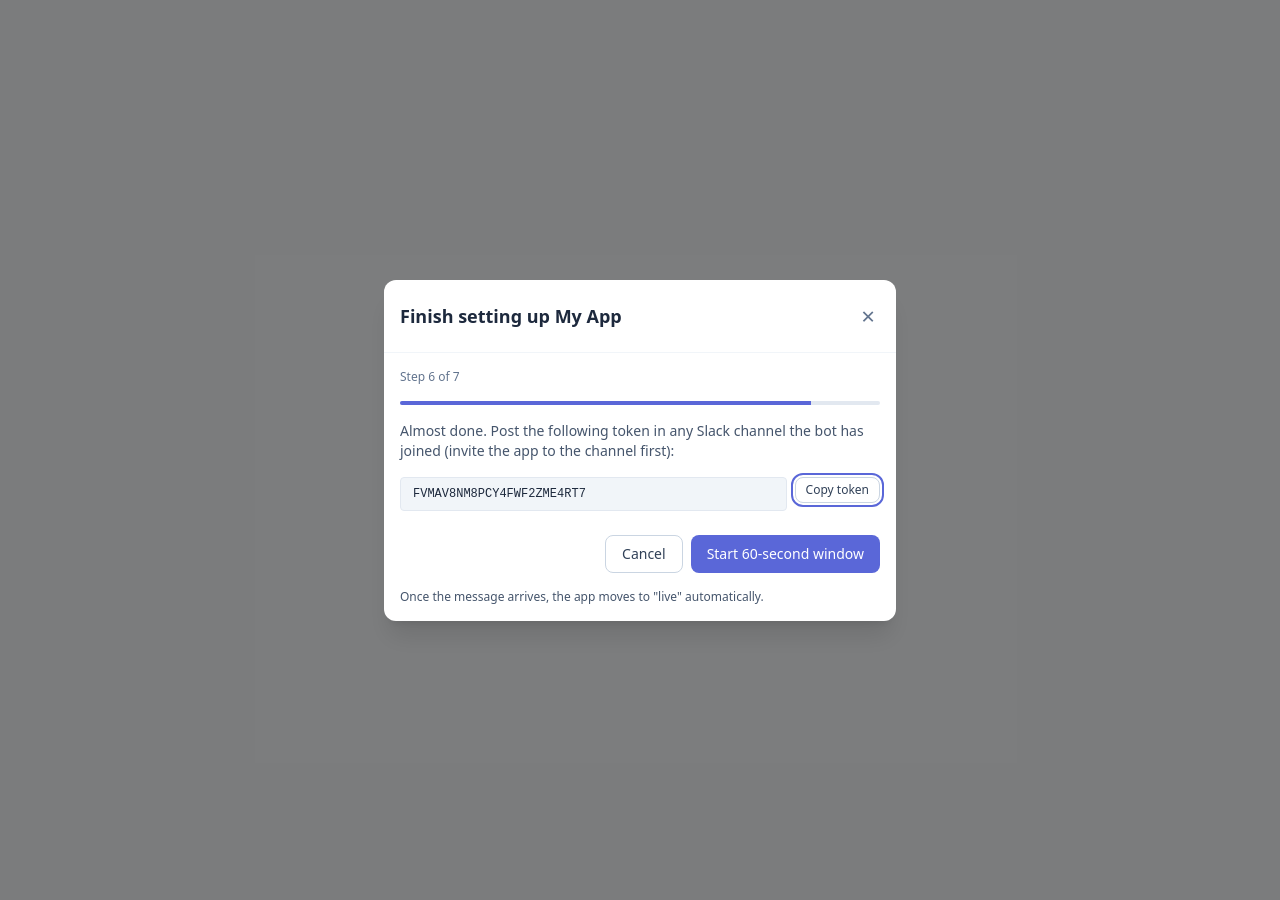
Test: SlackAppWizard - test message › shows a generated token and starts the 60s window
expect the text "Post the following token" is shown: met, box x1=400 y1=420 x2=864 y2=460
expect the text "Step 6 of 7" is shown: met, box x1=400 y1=368 x2=460 y2=384
Step 1. Click the button "Start 60-second window" → (785, 554), box x1=691 y1=534 x2=880 y2=572
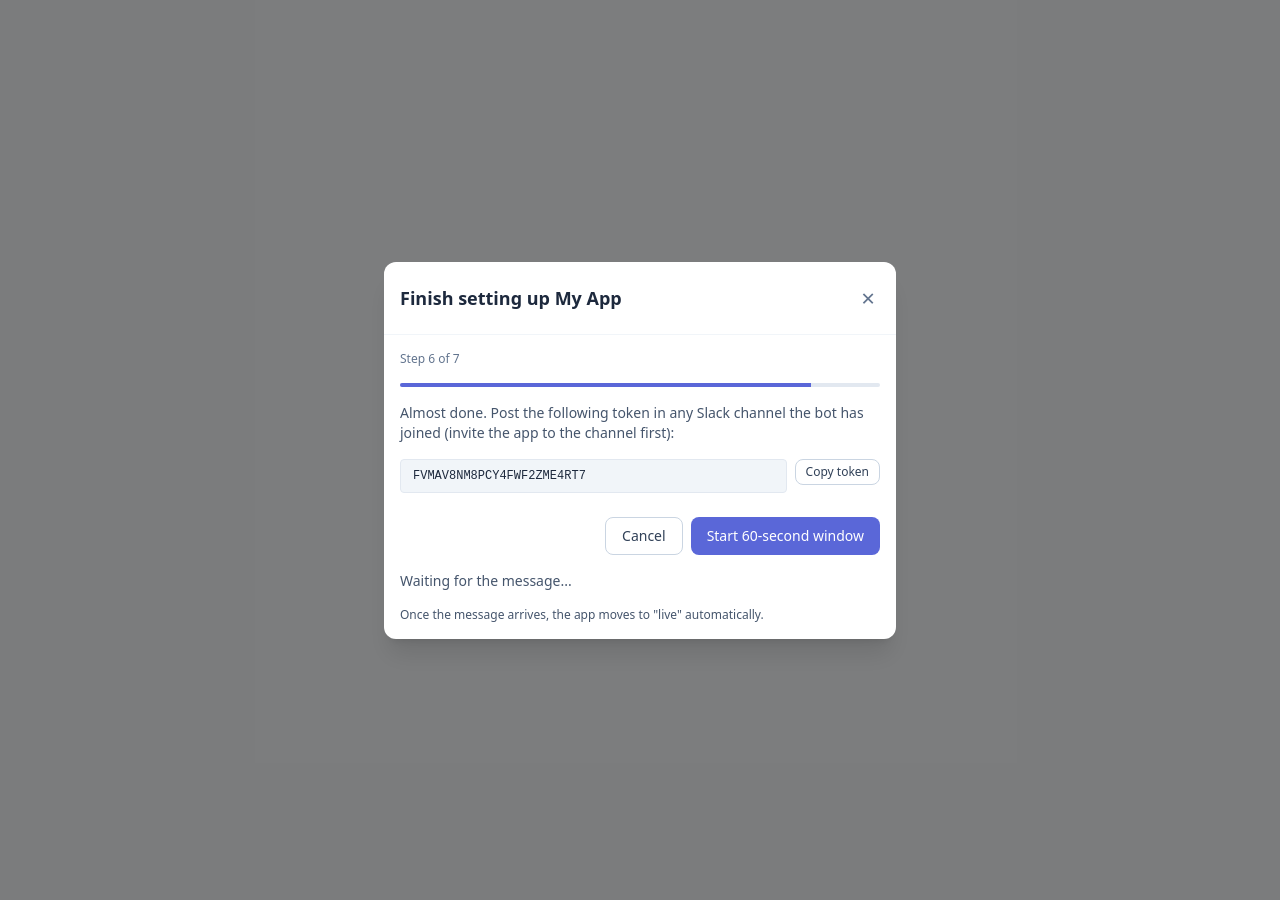
expect the text "Waiting for the message..." is shown: met, box x1=400 y1=570 x2=572 y2=590
